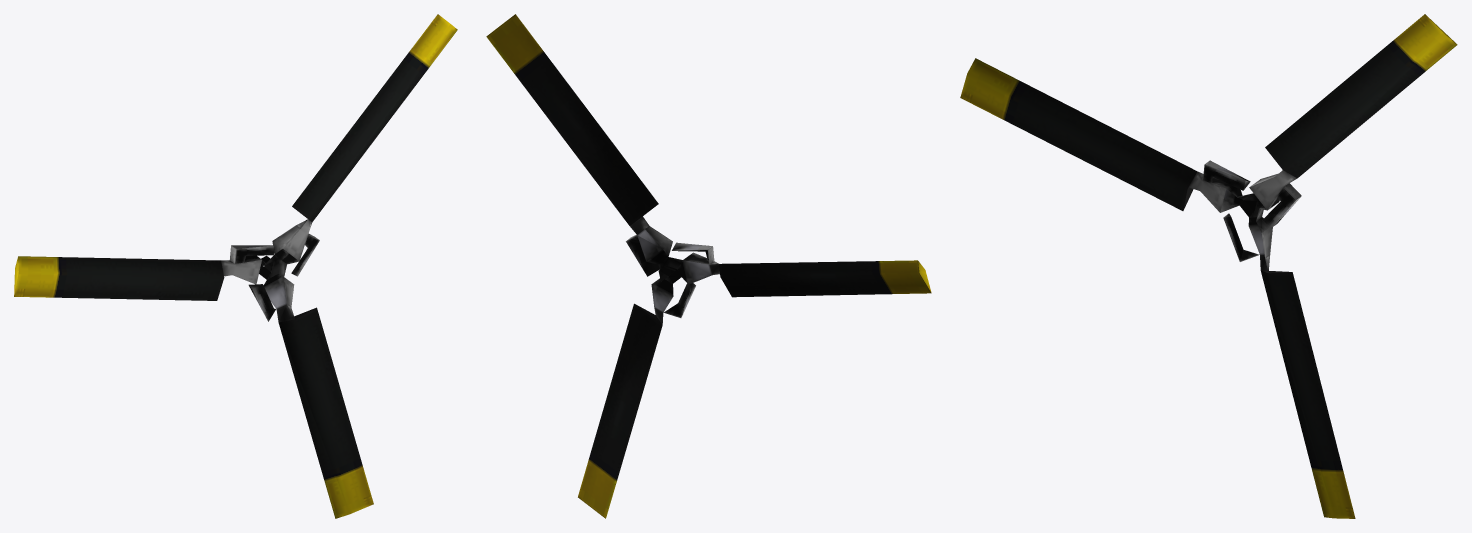
Rendered from backBlade1.obj.
The picture shows the model from 3 angles, left to right: view 1: azimuth 30°, elevation 25°; view 2: azimuth 150°, elevation 25°; view 3: azimuth 330°, elevation 25°; orthographic projection. The views are drawn at different scales.
Parts seen in each view (by area): view 1: Null_glass.005_Body; view 2: Null_glass.005_Body; view 3: Null_glass.005_Body.
Part boxes in pixels (x1=…): Null_glass.005_Body: x1=14, y1=14, x2=457, y2=518; Null_glass.005_Body: x1=486, y1=14, x2=931, y2=518; Null_glass.005_Body: x1=960, y1=14, x2=1457, y2=518.
Size of the model in its own units: 1.4 by 1.45 by 0.0838.
1 material, 1 textured.
